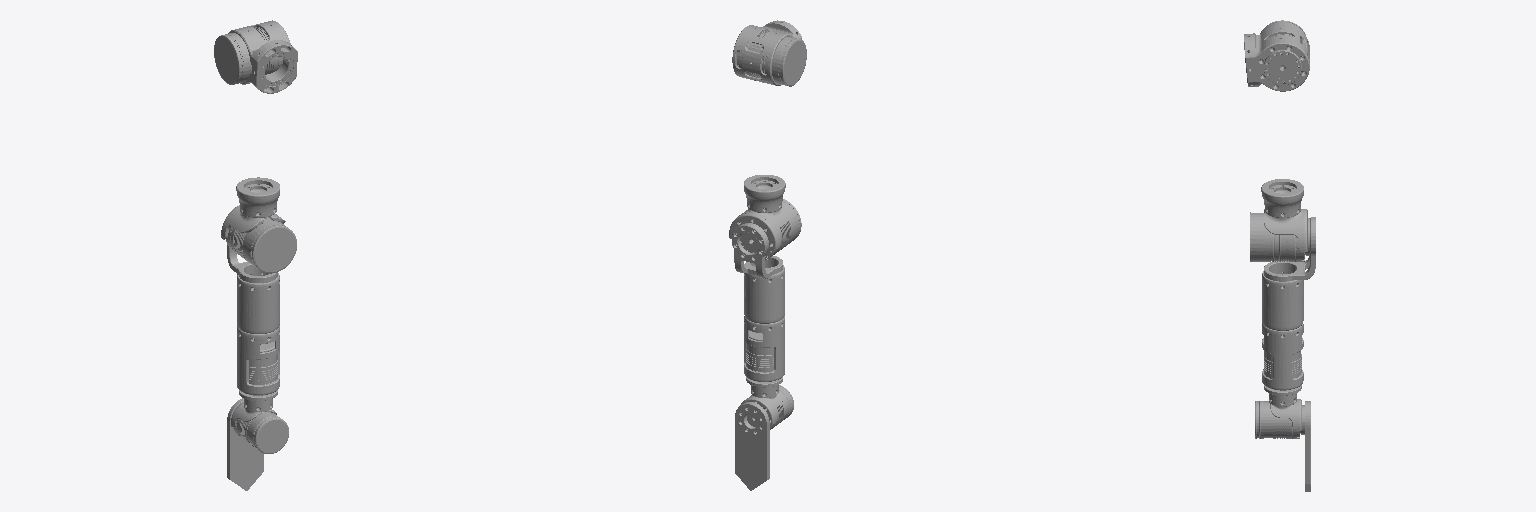
URDF robot description (eyou):
<?xml version="1.0" encoding="utf-8"?>
<!-- This URDF was automatically created by SolidWorks to URDF Exporter! Originally created by Stephen Brawner (brawner@gmail.com) 
     Commit Version: 1.6.0-4-g7f85cfe  Build Version: 1.6.7995.38578
     For more information, please see http://wiki.ros.org/sw_urdf_exporter -->
<robot
  name="eyou">
  <link
    name="base_link">
    <inertial>
      <origin
        xyz="2.76129925816843E-07 0.0686860812481636 0.387526177799413"
        rpy="0 0 0" />
      <mass
        value="3.3451250811703" />
      <inertia
        ixx="0.0346228808664145"
        ixy="-2.16005356441171E-08"
        ixz="3.20436571976386E-08"
        iyy="0.0366794538574689"
        iyz="8.62174734568158E-05"
        izz="0.00965300302293456" />
    </inertial>
    <visual>
      <origin
        xyz="0 0 0"
        rpy="0 0 0" />
      <geometry>
        <mesh
          filename="package://eyou_ros2_control/urdf/base_link.STL" />
      </geometry>
      <material
        name="">
        <color
          rgba="1 1 1 1" />
      </material>
    </visual>
    <collision>
      <origin
        xyz="0 0 0"
        rpy="0 0 0" />
      <geometry>
        <mesh
          filename="package://eyou_ros2_control/urdf/base_link.STL" />
      </geometry>
    </collision>
  </link>
  <link
    name="link_1">
    <inertial>
      <origin
        xyz="-7.31619633209668E-08 -0.00621067030176778 0.0358684167081429"
        rpy="0 0 0" />
      <mass
        value="0.545146085003045" />
      <inertia
        ixx="0.000276834378213259"
        ixy="-3.37178416921734E-10"
        ixz="1.53946665886174E-08"
        iyy="0.000223041975013736"
        iyz="-2.52469612779214E-06"
        izz="0.000266028101242945" />
    </inertial>
    <visual>
      <origin
        xyz="0 0 0"
        rpy="0 0 0" />
      <geometry>
        <mesh
          filename="package://eyou_ros2_control/urdf/link_1.STL" />
      </geometry>
      <material
        name="">
        <color
          rgba="0.698039215686274 0.698039215686274 0.698039215686274 1" />
      </material>
    </visual>
    <collision>
      <origin
        xyz="0 0 0"
        rpy="0 0 0" />
      <geometry>
        <mesh
          filename="package://eyou_ros2_control/urdf/link_1.STL" />
      </geometry>
    </collision>
  </link>
  <joint
    name="joint_1"
    type="revolute">
    <origin
      xyz="0 0.16743 0.54426"
      rpy="0 -1.481 -1.5708" />
    <parent
      link="base_link" />
    <child
      link="link_1" />
    <axis
      xyz="0 0 1" />
    <limit
      lower="-3.14"
      upper="3.14"
      effort="20"
      velocity="20" />
  </joint>
  <link
    name="link_2">
    <inertial>
      <origin
        xyz="0.100980933953346 -4.13020112555174E-09 -0.0232814027120222"
        rpy="0 0 0" />
      <mass
        value="0.566804542646458" />
      <inertia
        ixx="0.000240973529471711"
        ixy="1.09062876207421E-10"
        ixz="3.51793517049888E-05"
        iyy="0.000395801602253235"
        iyz="1.00369189049011E-08"
        izz="0.000373883630207562" />
    </inertial>
    <visual>
      <origin
        xyz="0 0 0"
        rpy="0 0 0" />
      <geometry>
        <mesh
          filename="package://eyou_ros2_control/urdf/link_2.STL" />
      </geometry>
      <material
        name="">
        <color
          rgba="0.698039215686274 0.698039215686274 0.698039215686274 1" />
      </material>
    </visual>
    <collision>
      <origin
        xyz="0 0 0"
        rpy="0 0 0" />
      <geometry>
        <mesh
          filename="package://eyou_ros2_control/urdf/link_2.STL" />
      </geometry>
    </collision>
  </link>
  <joint
    name="joint_2"
    type="revolute">
    <origin
      xyz="0 0.025999 0.0385"
      rpy="1.5708 0.089758 -3.1416" />
    <parent
      link="link_1" />
    <child
      link="link_2" />
    <axis
      xyz="0 0 1" />
    <limit
      lower="-3.14"
      upper="3.14"
      effort="20"
      velocity="20" />
  </joint>
  <link
    name="link_3">
    <inertial>
      <origin
        xyz="-4.16208498082496E-08 0.00348518308627509 0.0509551652689186"
        rpy="0 0 0" />
      <mass
        value="0.487960261130082" />
      <inertia
        ixx="0.000209069248211813"
        ixy="-4.50479264507862E-10"
        ixz="9.81343317332429E-09"
        iyy="0.00015778992400644"
        iyz="2.59592879673137E-06"
        izz="0.00022167240994763" />
    </inertial>
    <visual>
      <origin
        xyz="0 0 0"
        rpy="0 0 0" />
      <geometry>
        <mesh
          filename="package://eyou_ros2_control/urdf/link_3.STL" />
      </geometry>
      <material
        name="">
        <color
          rgba="0.698039215686274 0.698039215686274 0.698039215686274 1" />
      </material>
    </visual>
    <collision>
      <origin
        xyz="0 0 0"
        rpy="0 0 0" />
      <geometry>
        <mesh
          filename="package://eyou_ros2_control/urdf/link_3.STL" />
      </geometry>
    </collision>
  </link>
  <joint
    name="joint_3"
    type="revolute">
    <origin
      xyz="0.1505 0 -0.026"
      rpy="0 -1.5708 -3.1416" />
    <parent
      link="link_2" />
    <child
      link="link_3" />
    <axis
      xyz="0 0 1" />
    <limit
      lower="-3.14"
      upper="3.14"
      effort="20"
      velocity="20" />
  </joint>
  <link
    name="link_4">
    <inertial>
      <origin
        xyz="0.11386250672796 3.86029971592906E-08 -0.0268390802579066"
        rpy="0 0 0" />
      <mass
        value="0.339977479345778" />
      <inertia
        ixx="0.00010070279663771"
        ixy="3.56293621305165E-10"
        ixz="1.19276464983693E-05"
        iyy="0.000154878961476975"
        iyz="-3.6402283078032E-09"
        izz="0.000150924003373493" />
    </inertial>
    <visual>
      <origin
        xyz="0 0 0"
        rpy="0 0 0" />
      <geometry>
        <mesh
          filename="package://eyou_ros2_control/urdf/link_4.STL" />
      </geometry>
      <material
        name="">
        <color
          rgba="0.698039215686274 0.698039215686274 0.698039215686274 1" />
      </material>
    </visual>
    <collision>
      <origin
        xyz="0 0 0"
        rpy="0 0 0" />
      <geometry>
        <mesh
          filename="package://eyou_ros2_control/urdf/link_4.STL" />
      </geometry>
    </collision>
  </link>
  <joint
    name="joint_4"
    type="revolute">
    <origin
      xyz="0 -0.028999 0.0575"
      rpy="-0.29071 -1.5708 1.8615" />
    <parent
      link="link_3" />
    <child
      link="link_4" />
    <axis
      xyz="0 0 1" />
    <limit
      lower="-3.14"
      upper="3.14"
      effort="20"
      velocity="20" />
  </joint>
  <link
    name="link_5">
    <inertial>
      <origin
        xyz="1.72462451261422E-07 0.00399188080525967 0.0363611309832228"
        rpy="0 0 0" />
      <mass
        value="0.231241750036395" />
      <inertia
        ixx="6.29003401983138E-05"
        ixy="-4.90047970495538E-10"
        ixz="6.12448538456648E-09"
        iyy="4.3333639583119E-05"
        iyz="5.69065551862779E-07"
        izz="6.59580049014524E-05" />
    </inertial>
    <visual>
      <origin
        xyz="0 0 0"
        rpy="0 0 0" />
      <geometry>
        <mesh
          filename="package://eyou_ros2_control/urdf/link_5.STL" />
      </geometry>
      <material
        name="">
        <color
          rgba="0.698039215686274 0.698039215686274 0.698039215686274 1" />
      </material>
    </visual>
    <collision>
      <origin
        xyz="0 0 0"
        rpy="0 0 0" />
      <geometry>
        <mesh
          filename="package://eyou_ros2_control/urdf/link_5.STL" />
      </geometry>
    </collision>
  </link>
  <joint
    name="joint_5"
    type="revolute">
    <origin
      xyz="0.1708 0 -0.029"
      rpy="-1.5708 0 -1.5708" />
    <parent
      link="link_4" />
    <child
      link="link_5" />
    <axis
      xyz="0 0 1" />
    <limit
      lower="-3.14"
      upper="3.14"
      effort="20"
      velocity="20" />
  </joint>
  <link
    name="link_6">
    <inertial>
      <origin
        xyz="0.0322169838813506 3.58598647869224E-13 0.00298456390958041"
        rpy="0 0 0" />
      <mass
        value="0.0568436477066974" />
      <inertia
        ixx="7.50684331207047E-06"
        ixy="1.45545518194372E-16"
        ixz="-2.826858912056E-08"
        iyy="3.8145735025738E-05"
        iyz="1.11071701257717E-16"
        izz="4.5312861142806E-05" />
    </inertial>
    <visual>
      <origin
        xyz="0 0 0"
        rpy="0 0 0" />
      <geometry>
        <mesh
          filename="package://eyou_ros2_control/urdf/link_6.STL" />
      </geometry>
      <material
        name="">
        <color
          rgba="0.698039215686274 0.698039215686274 0.698039215686274 1" />
      </material>
    </visual>
    <collision>
      <origin
        xyz="0 0 0"
        rpy="0 0 0" />
      <geometry>
        <mesh
          filename="package://eyou_ros2_control/urdf/link_6.STL" />
      </geometry>
    </collision>
  </link>
  <joint
    name="joint_6"
    type="revolute">
    <origin
      xyz="0 -0.0233 0.041"
      rpy="1.5708 -1.5708 0" />
    <parent
      link="link_5" />
    <child
      link="link_6" />
    <axis
      xyz="0 0 1" />
    <limit
      lower="-3.14"
      upper="3.14"
      effort="20"
      velocity="20" />
  </joint>
  <link name="grasp_point" />
  <joint name="grasp_joint" type="fixed">
      <parent link="link_6" />
      <child link="grasp_point" />
      <origin xyz="0.1 0 0" rpy="1.5708 -1.5708 1.5708" />
  </joint>
  <!-- ROS2 Control Configuration (PARAMS MOVED HERE) -->
  <ros2_control name="EyouSystem" type="system">
    <hardware>
      <plugin>eyou_ros2_control/EyouSystem</plugin>
      <param name="joint_1_motor_id">2</param>
      <param name="joint_2_motor_id">3</param>
      <param name="joint_3_motor_id">4</param>
      <param name="joint_4_motor_id">5</param>
      <param name="joint_5_motor_id">6</param>
      <param name="joint_6_motor_id">7</param>
      <param name="can_interface">can1</param>
    </hardware>
    <joint name="joint_1">
      <command_interface name="position"/>
      <state_interface name="position"/>
      <state_interface name="velocity"/>
      <state_interface name="effort"/>
    </joint>
    <joint name="joint_2">
      <command_interface name="position"/>
      <state_interface name="position"/>
      <state_interface name="velocity"/>
      <state_interface name="effort"/>
    </joint>
    <joint name="joint_3">
      <command_interface name="position"/>
      <state_interface name="position"/>
      <state_interface name="velocity"/>
      <state_interface name="effort"/>
    </joint>
    <joint name="joint_4">
      <command_interface name="position"/>
      <state_interface name="position"/>
      <state_interface name="velocity"/>
      <state_interface name="effort"/>
    </joint>
    <joint name="joint_5">
      <command_interface name="position"/>
      <state_interface name="position"/>
      <state_interface name="velocity"/>
      <state_interface name="effort"/>
    </joint>
    <joint name="joint_6">
      <command_interface name="position"/>
      <state_interface name="position"/>
      <state_interface name="velocity"/>
      <state_interface name="effort"/>
    </joint>
  </ros2_control>
</robot>

--- Facts derived from the render (not from the file) ---
3 views of the same robot in one strip: view 1: azimuth 30°, elevation 25°; view 2: azimuth 150°, elevation 25°; view 3: azimuth 270°, elevation 25° (orthographic).
Robot: eyou — 8 links, 7 joints (6 revolute, 1 fixed); root link base_link; default pose: every joint at zero.
Visible links, largest first — view 1: link_4, link_3, link_1, link_5, link_6; view 2: link_4, link_1, link_3, link_6, link_5; view 3: link_4, link_3, link_1, link_5, link_6.
Boxes of the visible links, x1,y1,x2,y2 form: link_4: [227, 245, 279, 395]; link_3: [221, 177, 296, 273]; link_1: [214, 20, 297, 93]; link_5: [231, 390, 288, 453]; link_6: [227, 398, 263, 490]; link_4: [732, 224, 784, 381]; link_1: [732, 20, 806, 86]; link_3: [729, 175, 801, 260]; link_6: [735, 402, 769, 490]; link_5: [740, 377, 793, 429]; link_4: [1262, 217, 1315, 390]; link_3: [1250, 179, 1309, 261]; link_1: [1244, 20, 1309, 91]; link_5: [1255, 385, 1304, 438]; link_6: [1305, 401, 1310, 491].
Bounding box of the posed robot: 0.0678 × 0.0758 × 0.5313 m (x, y, z).
5 mesh visuals loaded from 7 distinct referenced files (5 binary STL); not drawn: 2 (reference not matched to a file when rendering).
